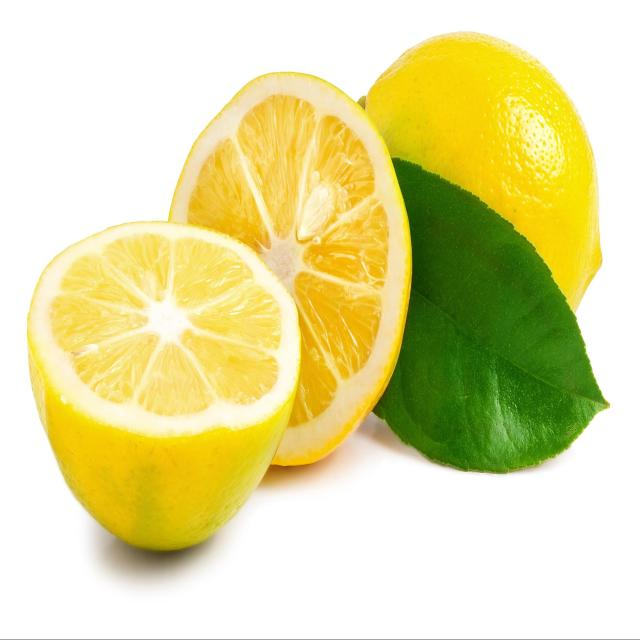lemon: (24, 217, 304, 562)
